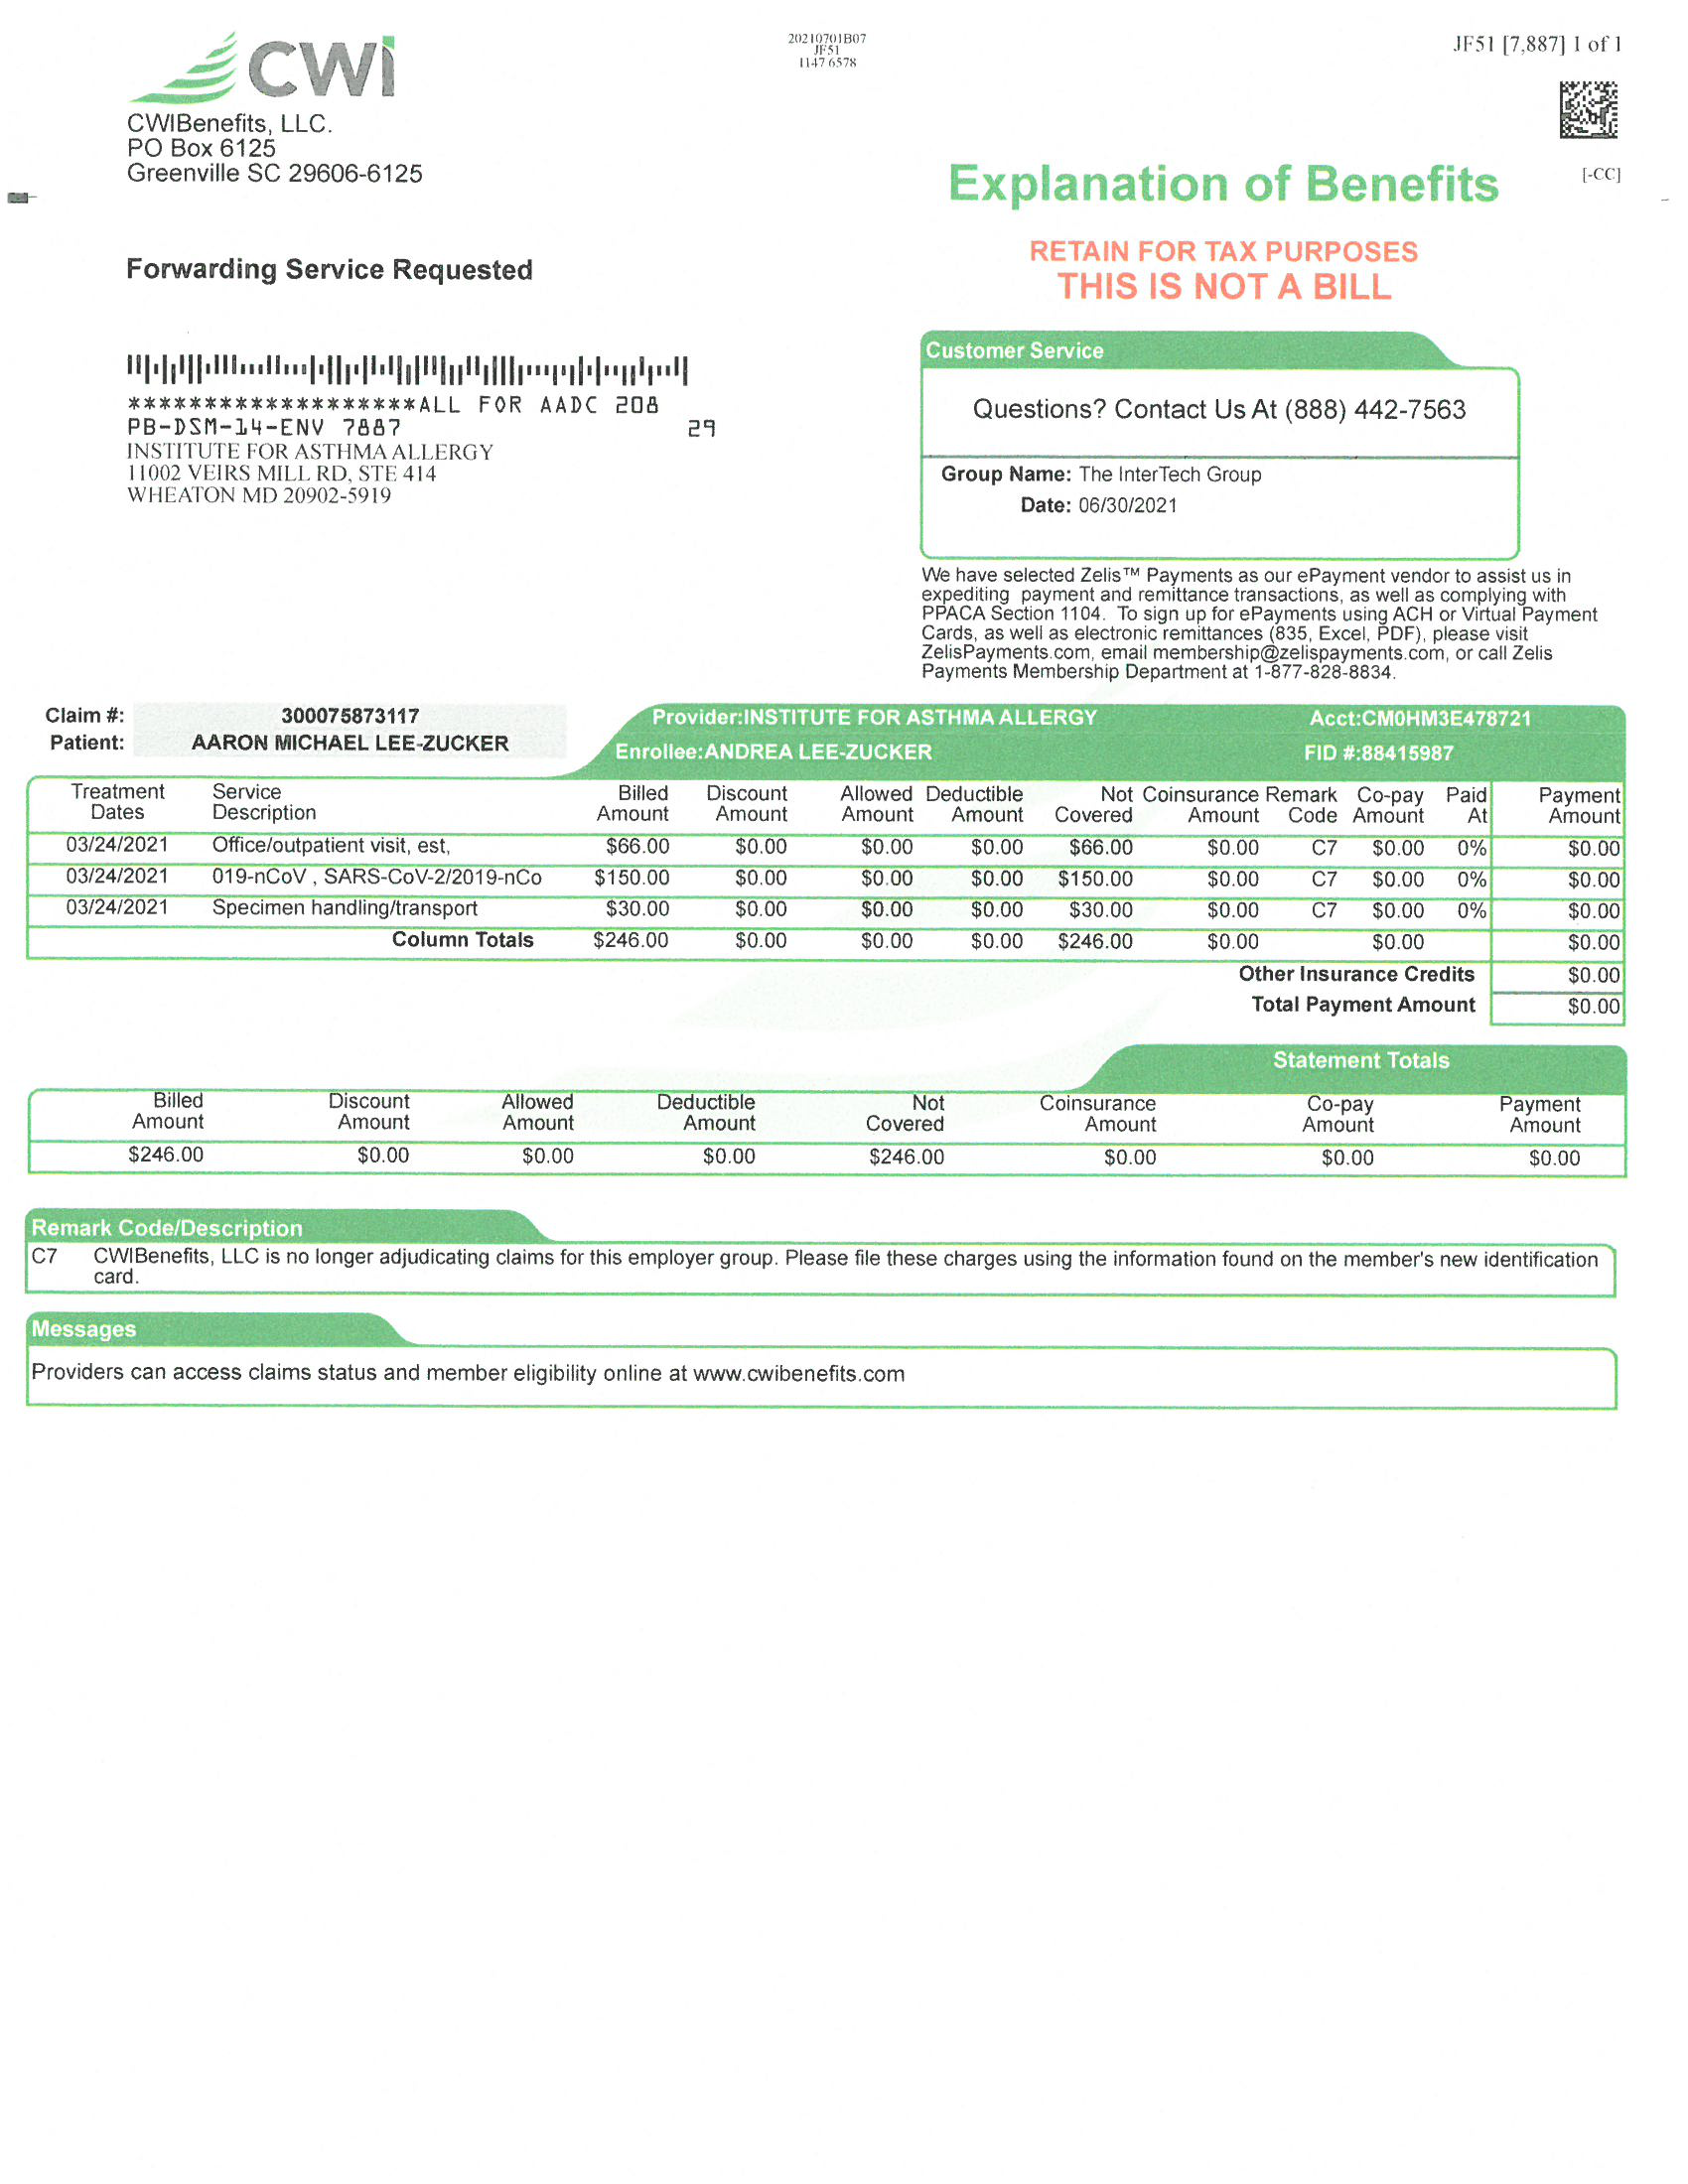data: (911, 317, 1534, 560), (28, 675, 580, 771), (601, 682, 1106, 766), (1301, 698, 1546, 771)
table: (25, 764, 1645, 971), (18, 1035, 1640, 1195)
